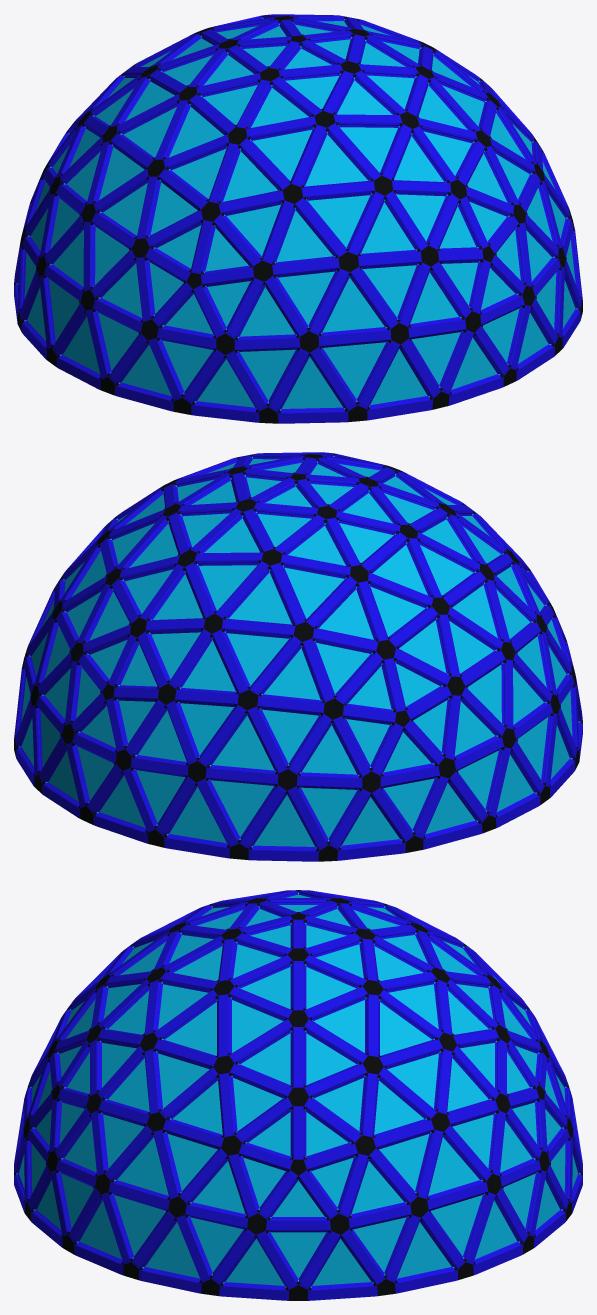
Rendered from 1dome.fbx.
3 views of the same model, one above another, from view 1: azimuth 30°, elevation 25°; view 2: azimuth 150°, elevation 25°; view 3: azimuth 270°, elevation 25° (orthographic).
Parts seen in each view (by area): view 1: Icosphere.001; view 2: Icosphere.001; view 3: Icosphere.001.
Boxes of the visible parts, box(x1,y1,x2,y2) form: Icosphere.001: box(14, 14, 582, 423); Icosphere.001: box(14, 452, 582, 861); Icosphere.001: box(14, 890, 582, 1300).
Size of the model in its own units: 198 by 102 by 198.
